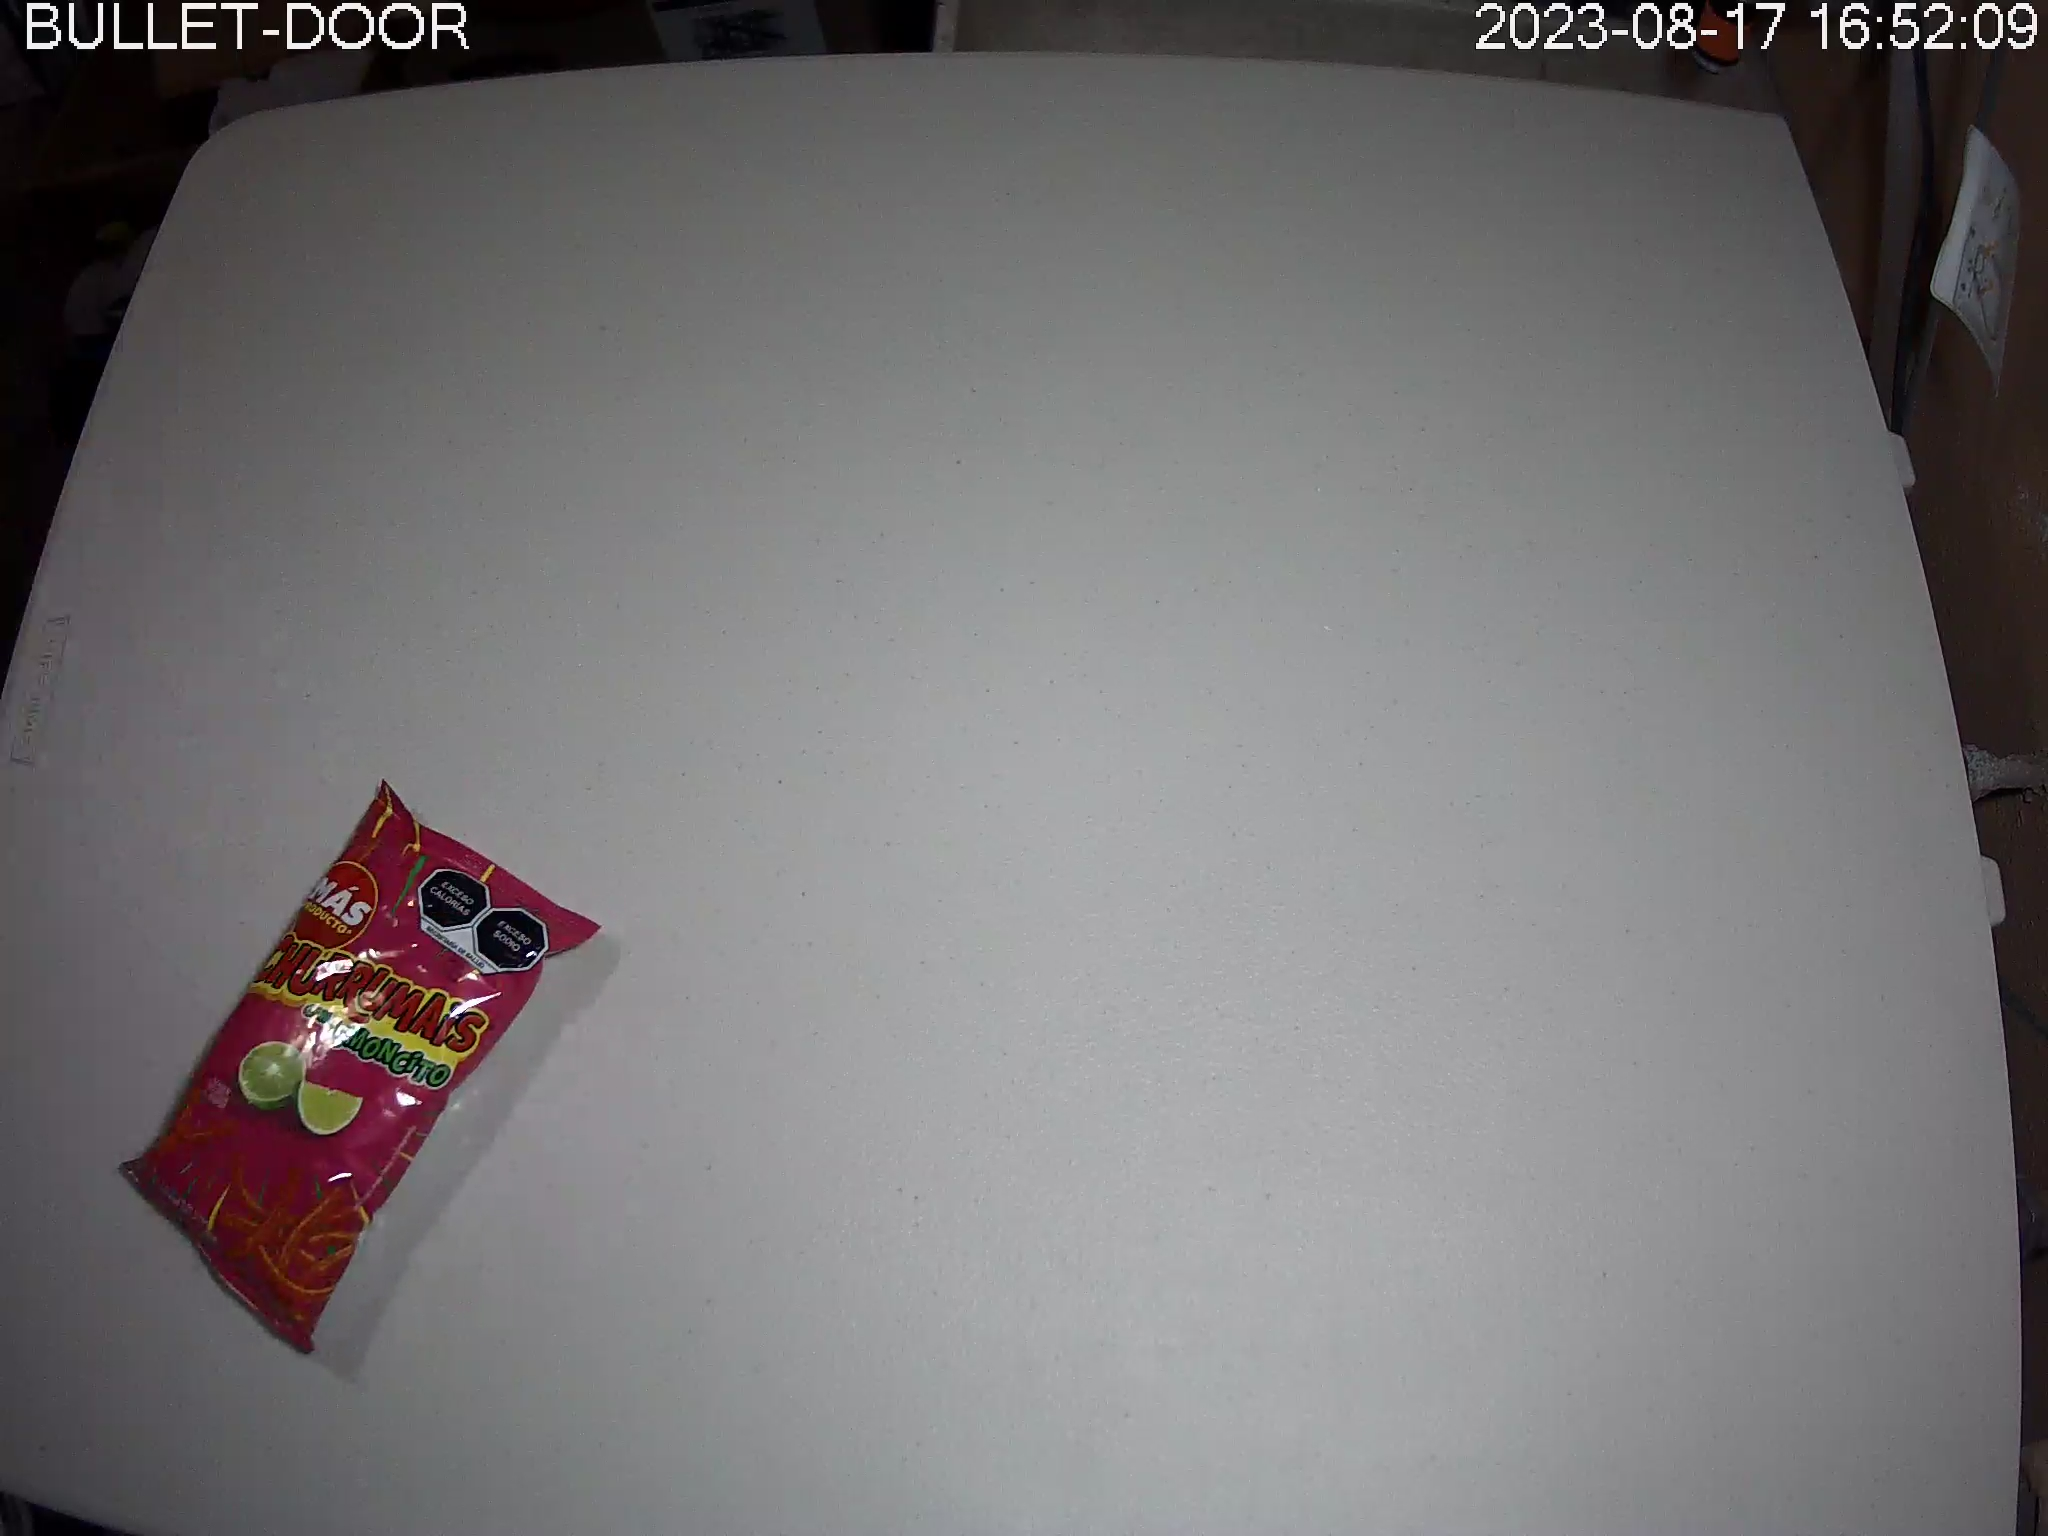Churrumais_70_F: (119, 778, 605, 1355)
